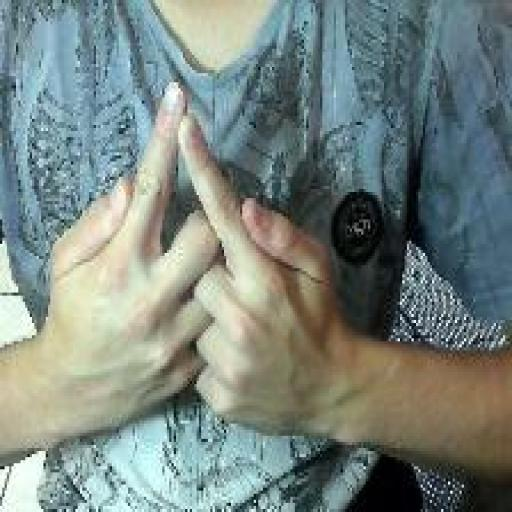Uma -horse-: (41, 74, 341, 444)
